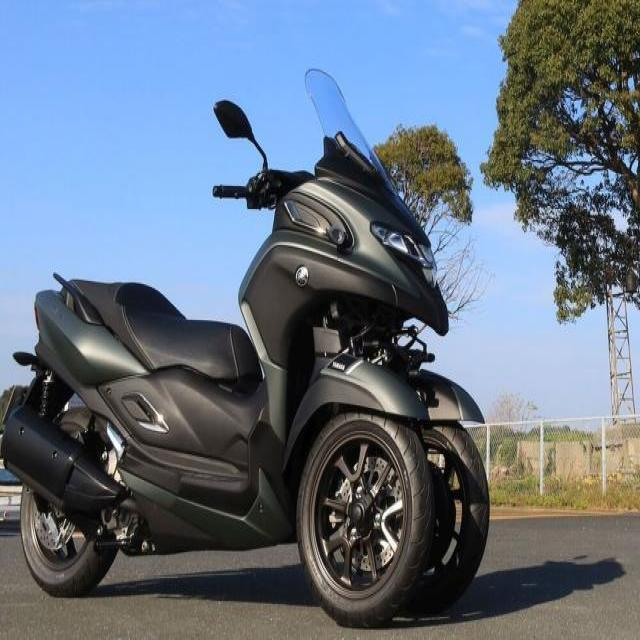Bike: (0, 69, 492, 631)
